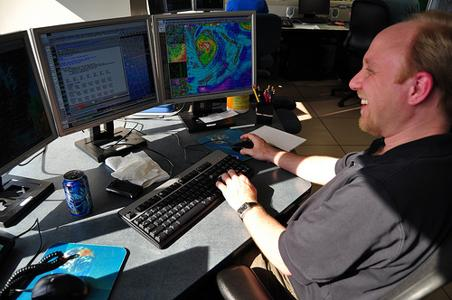person: (215, 14, 452, 300)
